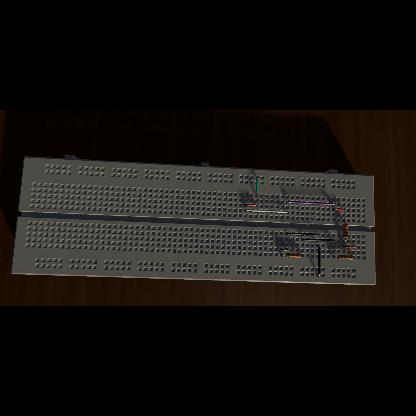breadboard: (11, 155, 375, 285)
resistor: (342, 224, 348, 238), (337, 256, 353, 260), (286, 254, 300, 258)
wire: (286, 201, 334, 205), (244, 209, 288, 212), (301, 238, 334, 242), (286, 232, 318, 236), (316, 245, 320, 276), (256, 177, 258, 196), (342, 246, 356, 248), (244, 204, 256, 206), (332, 209, 344, 211), (342, 220, 346, 224), (342, 238, 346, 242), (280, 249, 288, 251), (280, 254, 286, 256), (332, 256, 338, 258), (301, 254, 303, 256), (353, 258, 354, 258)
